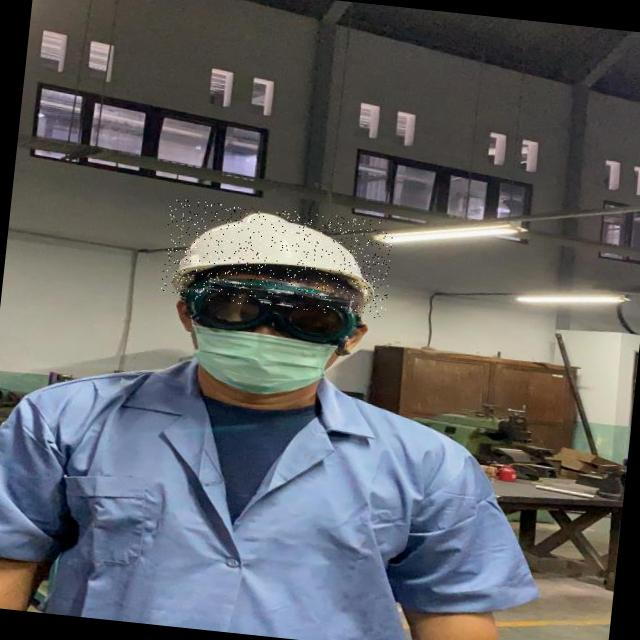no-vest: (31, 375, 422, 640)
